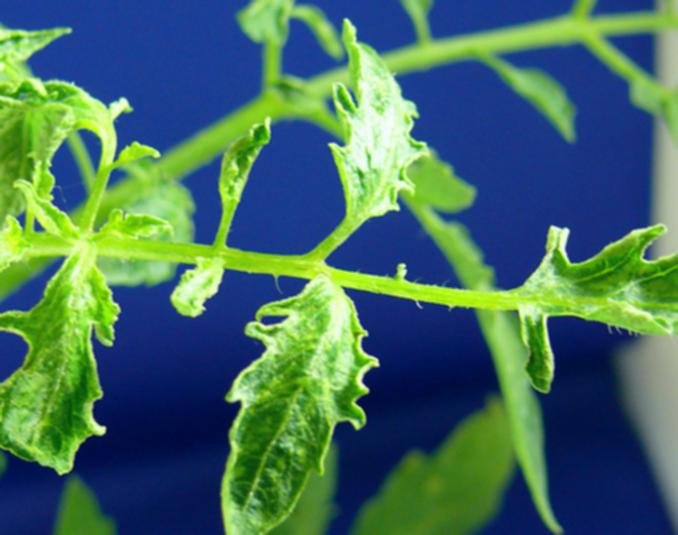Tomato leaf mosaic virus: (188, 274, 396, 535), (0, 250, 155, 493), (489, 227, 678, 384), (317, 9, 438, 229)
